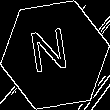N_S: (33, 27, 77, 83)
